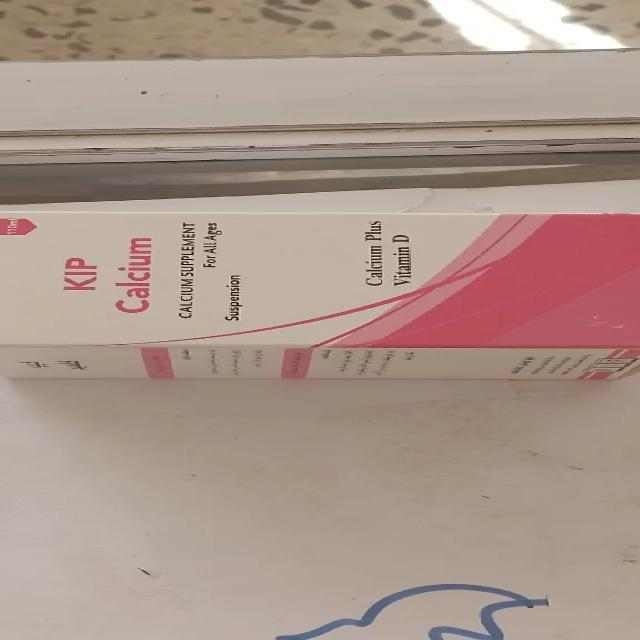drug-name: (58, 238, 156, 313)
